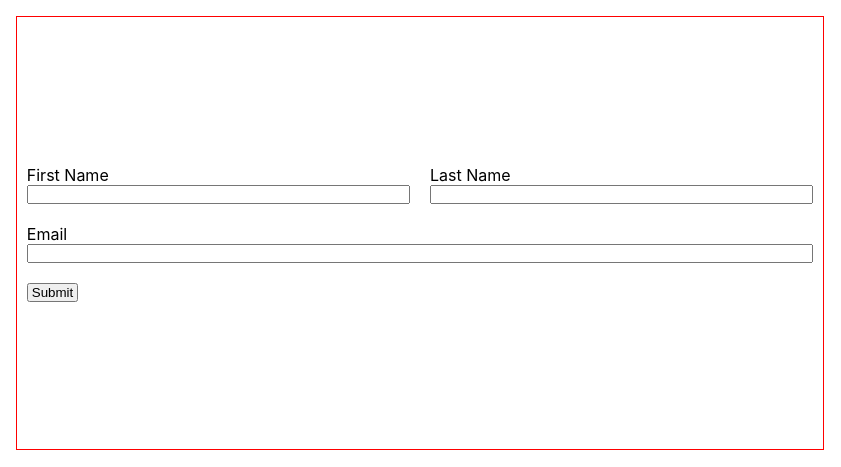
Scenario: shows only 1 error when 1 input is incorrect and the others are correct › loads email error only
Type "Wei-Tong" into the field below "First Name".
click(219, 195); type("Wei-Tong")  # box [27,185,410,204]
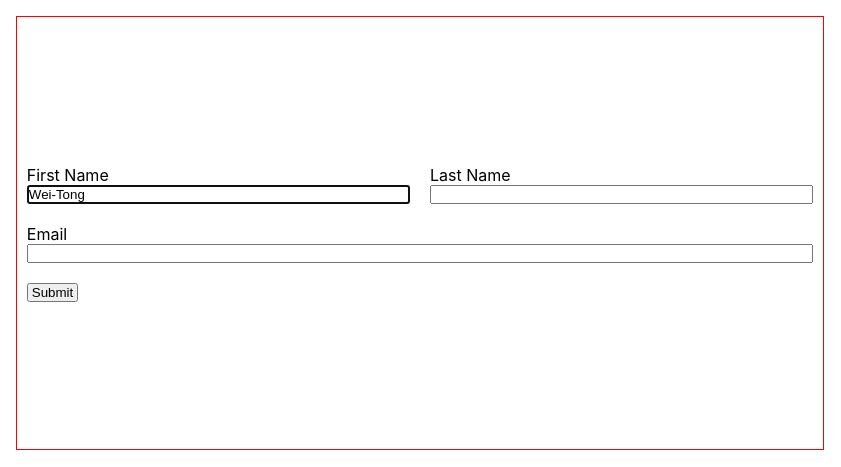
Type "Tang" into the field below "Last Name".
click(622, 195); type("Tang")  # box [430,185,813,204]
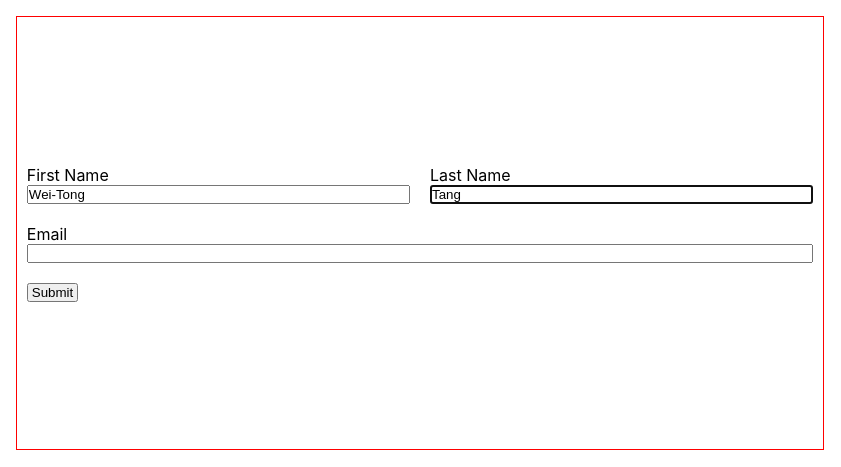
Type "w" into the field below "Email".
click(420, 254); type("w")  # box [27,244,813,263]
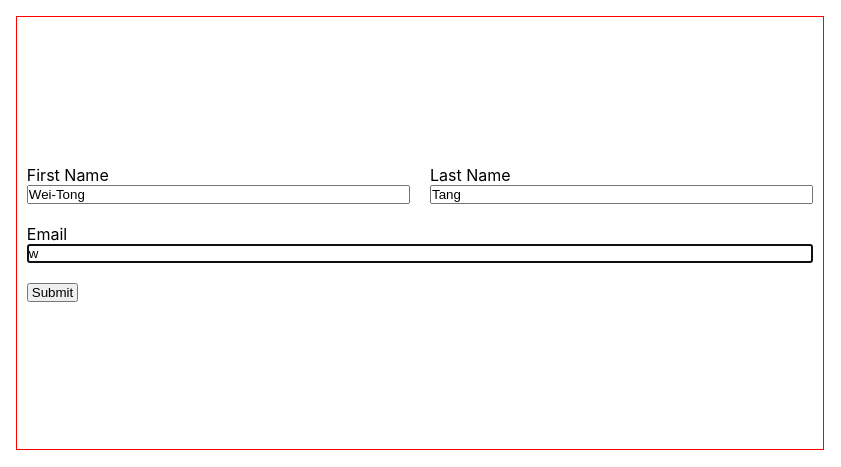
Click the button "Submit".
click(53, 293)  # box [27,283,79,302]
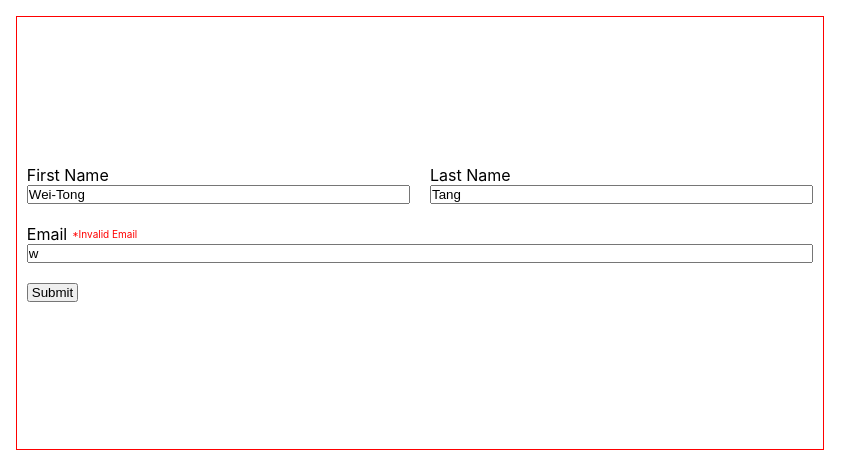
Expected: the text "*Invalid Email" is shown, [72,228,137,240]
